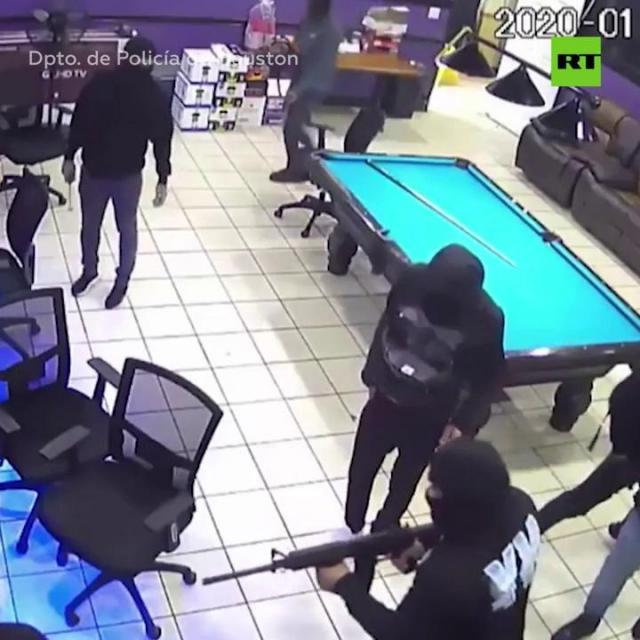weapon: (192, 521, 442, 619)
